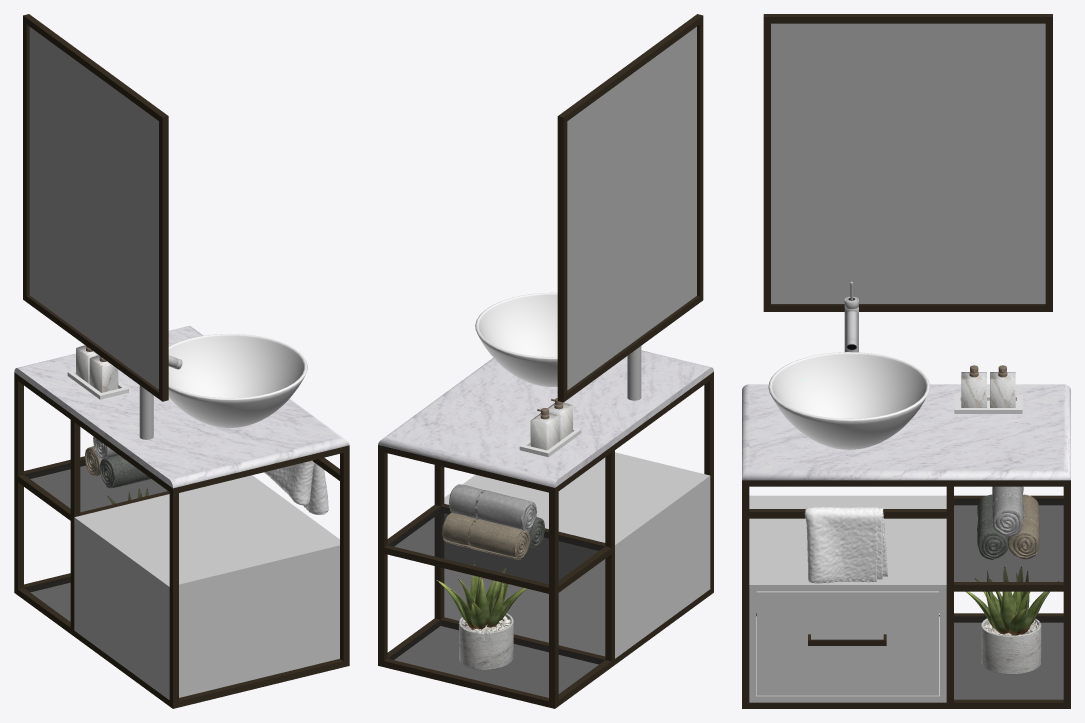
The model's file is nova-anbr-noir.glb.
3 renders of one model, left to right at view 1: azimuth 30°, elevation 25°; view 2: azimuth 150°, elevation 25°; view 3: azimuth 270°, elevation 25°, orthographic. The views are drawn at different scales.
Parts seen in each view (by area): view 1: G-Object.021, G-Object.026, G-Object.023, G-Object.040, _G-Object.008 (Loose Mesh), G-Object.025, G-Object.019, 3DGeom~2 (C-3DGeom~2_Defintion#3), G-Object.016, G-Object.024, G-Object.043, G-Object.020 (+3 smaller); view 2: G-Object.026, G-Object.021, G-Object.023, G-Object.019, G-Object.024, G-Object.040, G-Object.025, _G-Object.008 (Loose Mesh), G-Object.042, G-Object.041, G-Object.006, G-Object.016 (+10 smaller); view 3: G-Object.026, G-Object.023, G-Object.022, G-Object.021, G-Object.040, G-Object.024, 3DGeom~2 (C-3DGeom~2_Defintion#3), G-Object.025, _G-Object.008 (Loose Mesh), G-Object.006, G-Object.018, G-Object.019 (+12 smaller).
Part boxes in pixels (box(x1,y1,x2,y2)): G-Object.021: box(74, 475, 339, 699); G-Object.026: box(23, 14, 168, 401); G-Object.023: box(14, 326, 349, 488); G-Object.040: box(168, 334, 307, 427); _G-Object.008 (Loose Mesh): box(18, 447, 349, 708); G-Object.025: box(24, 459, 167, 512); G-Object.019: box(14, 372, 70, 595); 3DGeom~2 (C-3DGeom~2_Defintion#3): box(264, 460, 328, 514); G-Object.016: box(70, 420, 80, 630); G-Object.024: box(24, 576, 70, 621); G-Object.043: box(99, 455, 151, 488); G-Object.020: box(18, 375, 172, 493); G-Object.026: box(557, 14, 703, 402); G-Object.021: box(444, 452, 710, 658); G-Object.023: box(378, 350, 713, 487); G-Object.019: box(378, 446, 558, 708); G-Object.024: box(388, 620, 604, 697); G-Object.040: box(475, 292, 557, 387); G-Object.025: box(388, 506, 604, 584); _G-Object.008 (Loose Mesh): box(378, 378, 713, 705); G-Object.042: box(442, 512, 530, 559); G-Object.041: box(449, 484, 536, 531); G-Object.006: box(459, 613, 513, 669); G-Object.016: box(605, 450, 614, 661); G-Object.026: box(763, 14, 1052, 311); G-Object.023: box(742, 384, 1070, 480); G-Object.022: box(756, 591, 938, 695); G-Object.021: box(749, 495, 946, 702); G-Object.040: box(768, 352, 929, 449); G-Object.024: box(954, 616, 1063, 699); 3DGeom~2 (C-3DGeom~2_Defintion#3): box(804, 506, 888, 583); G-Object.025: box(954, 498, 1063, 581); _G-Object.008 (Loose Mesh): box(742, 486, 1063, 708); G-Object.006: box(981, 618, 1041, 674); G-Object.018: box(742, 480, 1070, 486); G-Object.019: box(1063, 486, 1070, 708).
Bounding box in the file's own units: 0.6316 × 1.85 × 0.91.
Materials: 21 (9 with a texture image).
